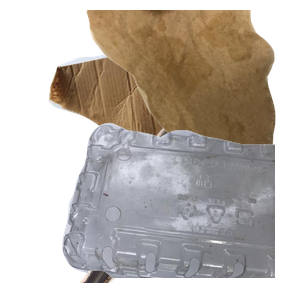cardboard: (46, 40, 226, 179)
glass: (66, 120, 279, 300)
plastic: (60, 120, 300, 300)
trash: (84, 10, 300, 190)
